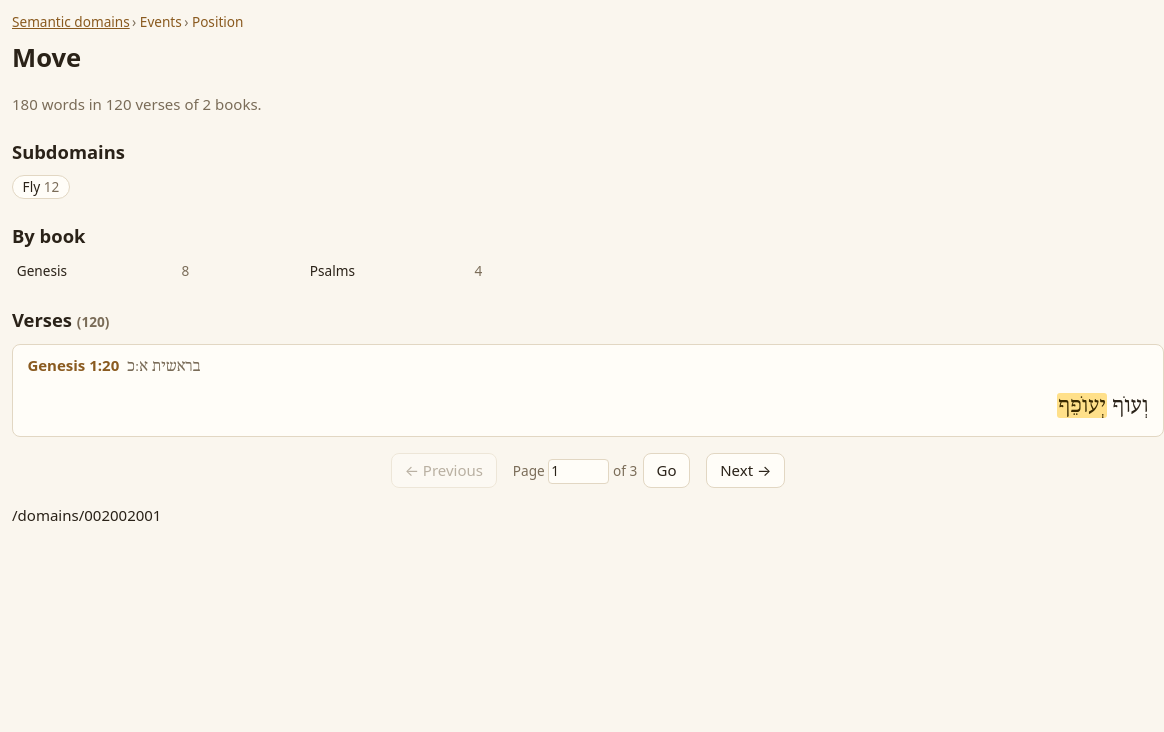
DomainsPage › shows a domain with its path, subdomains and highlighted verses, and filters by book
Expected: the heading "Move" is shown, [12,40,81,75]
Expected: the link "Fly 12" is shown, [12,175,70,199]
Click the button "Psalms 4". click: (357, 271)
box: [305,259,409,284]
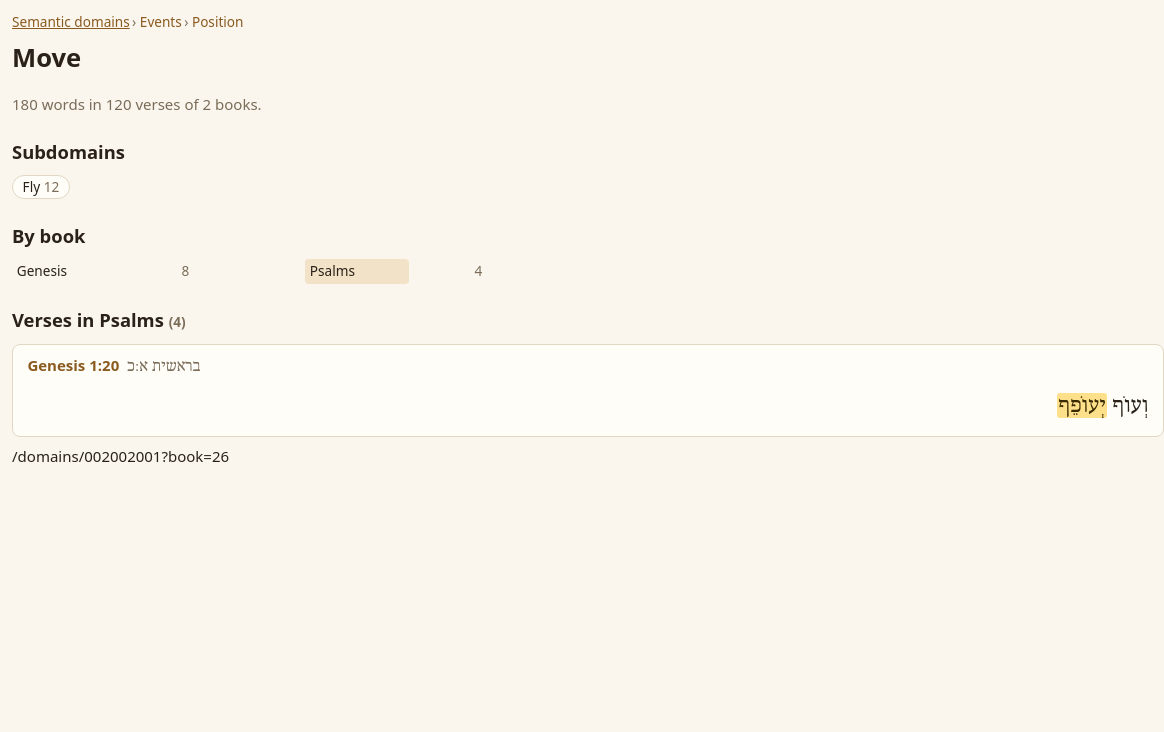
Expected: the text with test id "loc" reads "/domains/002002001?book=26", [12,446,229,466]
